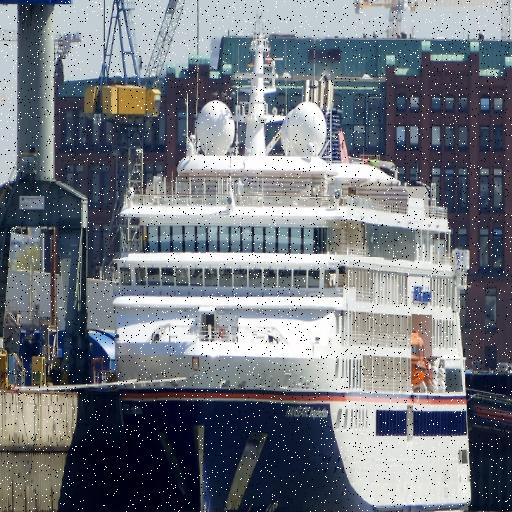cruises: (110, 29, 479, 512)
